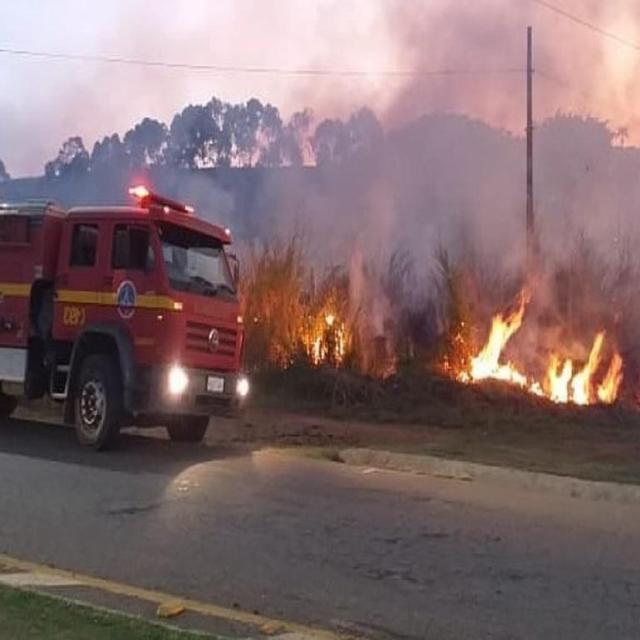fire: (436, 285, 633, 412)
